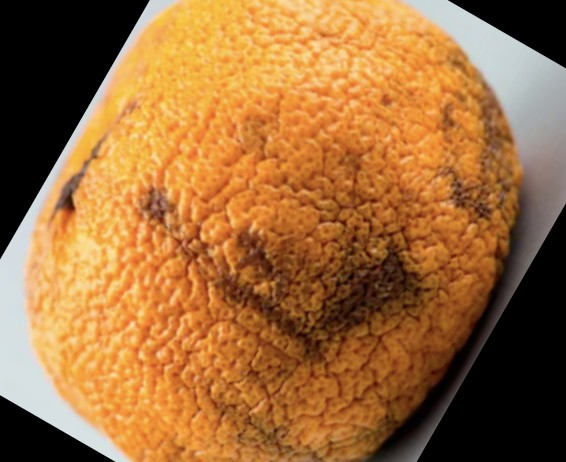rotten_orange: (24, 1, 524, 462)
